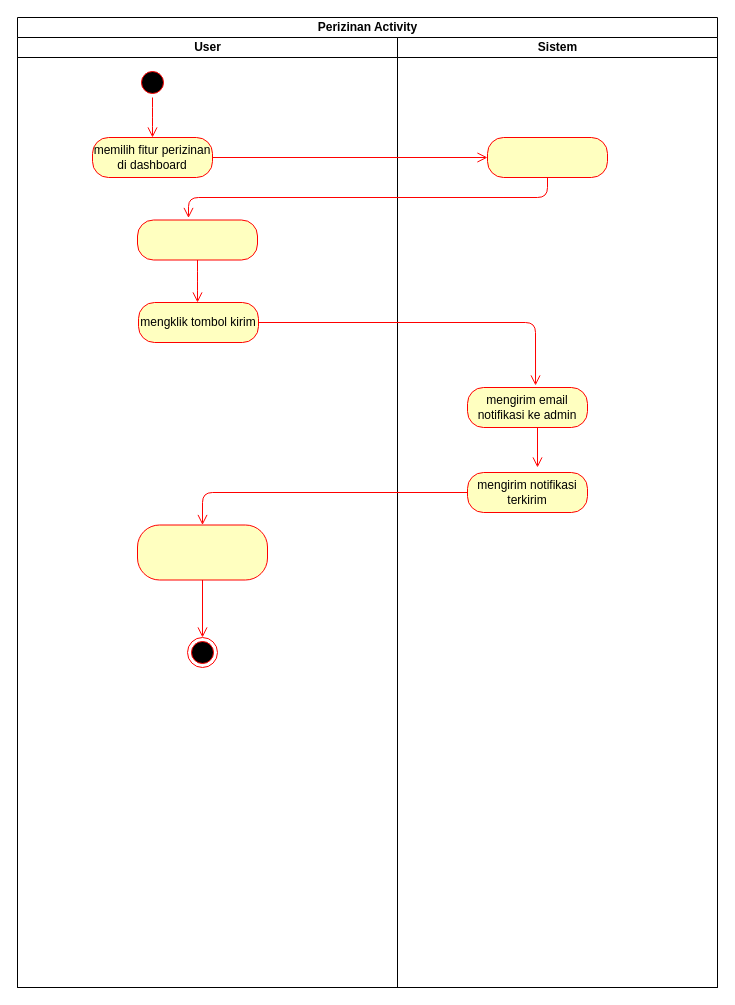
The diagram is 735 pixels wide and 1005 high, and some of its shapes have lost their labels. Each missing label, with the centre of its shape:
menapilkan halaman perizinan: (x=547, y=157)
menerima notifikasi keberhasilan pengajuan izin: (x=202, y=552)
mengisi nama, tanggal dan alaan izin: (x=197, y=239)
